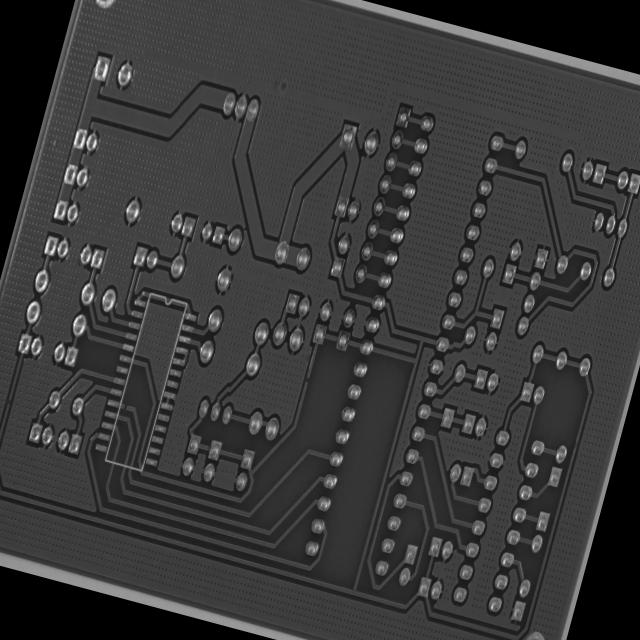open_circuit: (3, 392, 14, 411), (302, 372, 312, 386), (120, 400, 128, 413)
